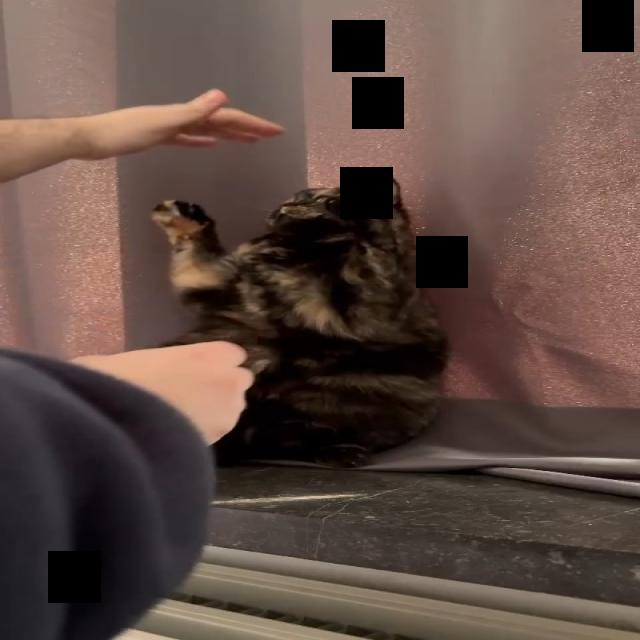authorized: (148, 173, 451, 469)
